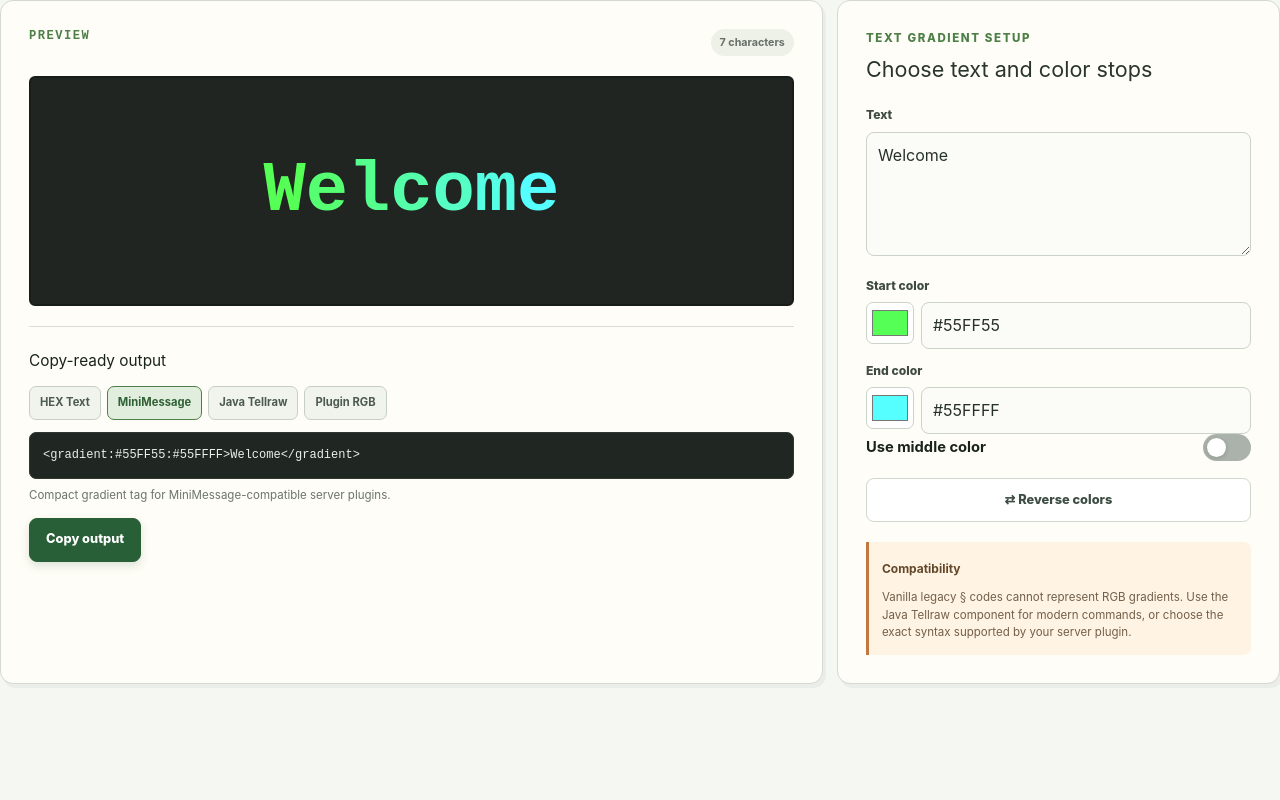
Scenario: keeps the last valid color and pauses copying during incomplete HEX edits
Replace the text in the field named "Start color HEX" with "#55": (1086, 325) [921,302,1251,349]
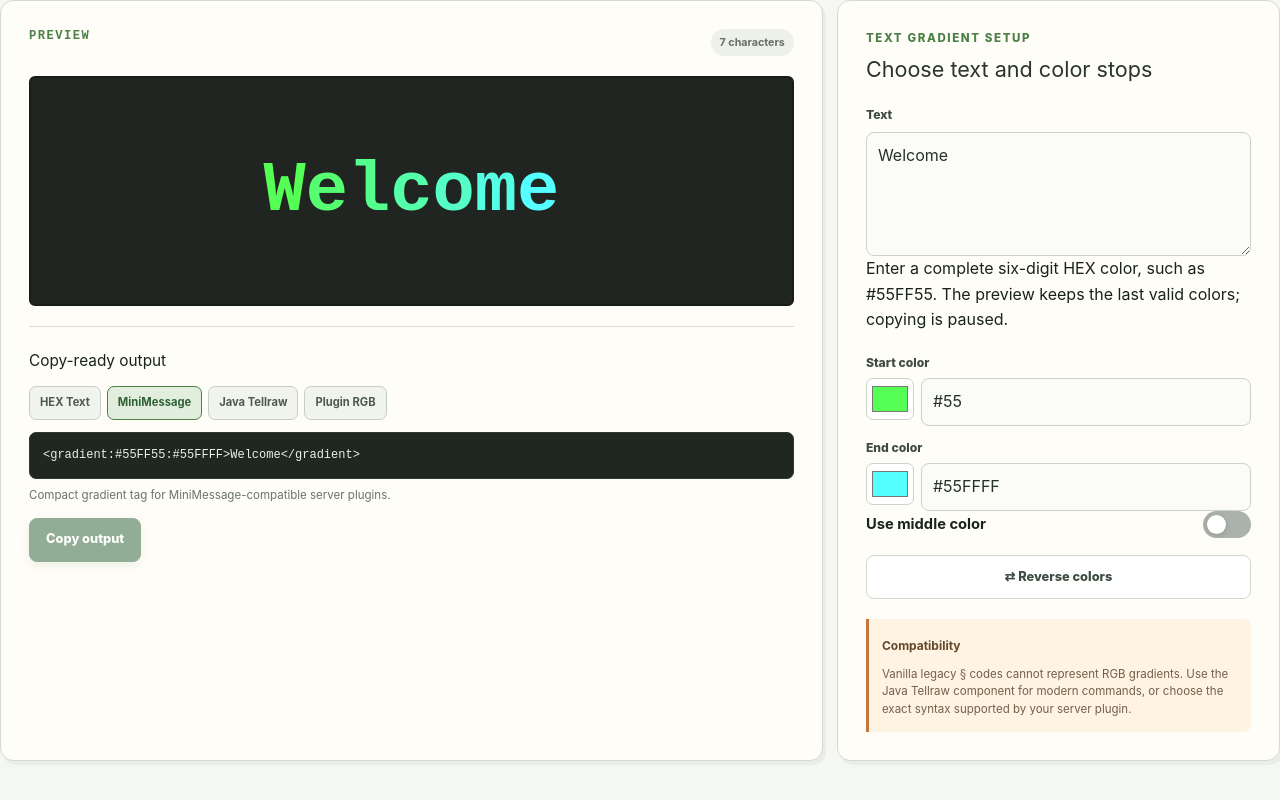
Result: the message is shown at [866,256,1251,333]
Result: the button "Copy output" is disabled at [29,518,141,562]
Replace the text in the field named "Start color HEX" with "#123456": (1086, 402) [921,378,1251,426]
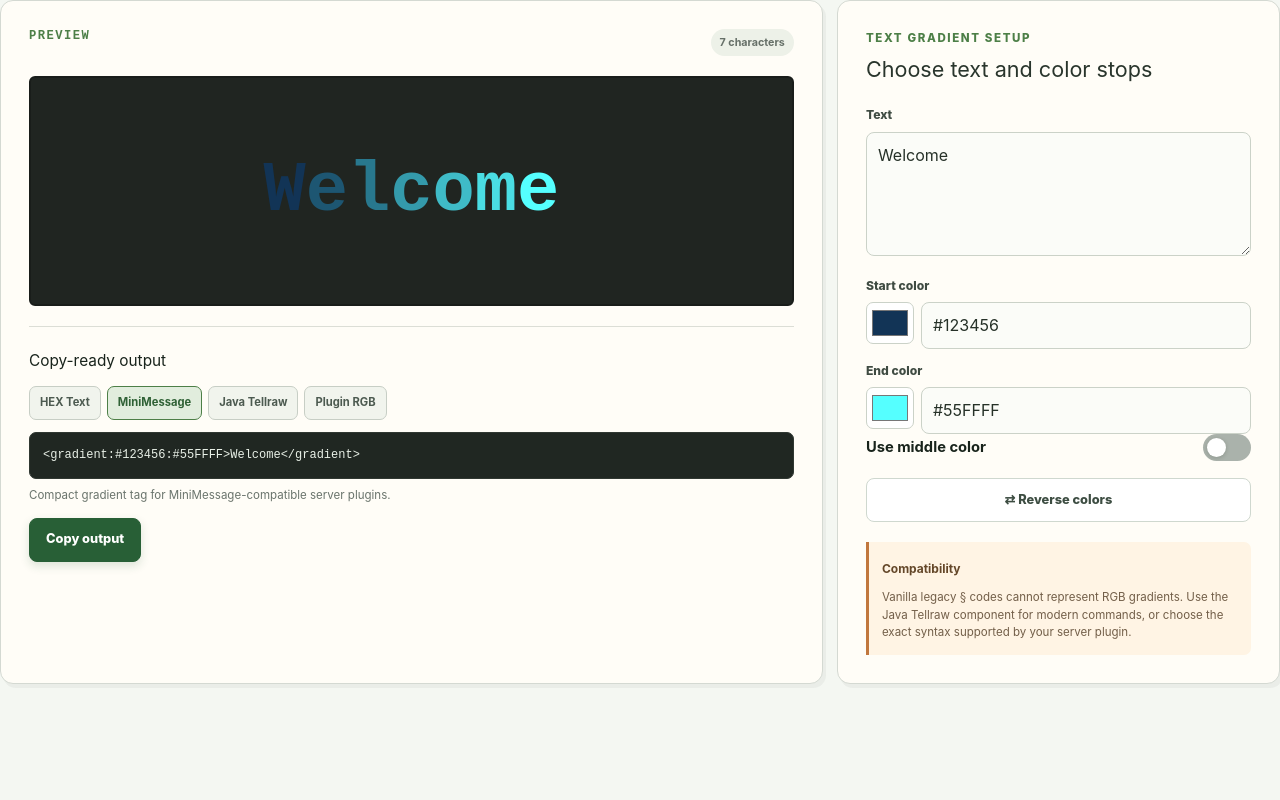
Result: the message is gone
Result: the button "Copy output" is enabled at [29,518,141,562]
Result: the element showing "<gradient:#123456:#55FFFF>Welcome</gradient>" is shown at [29,432,794,479]
